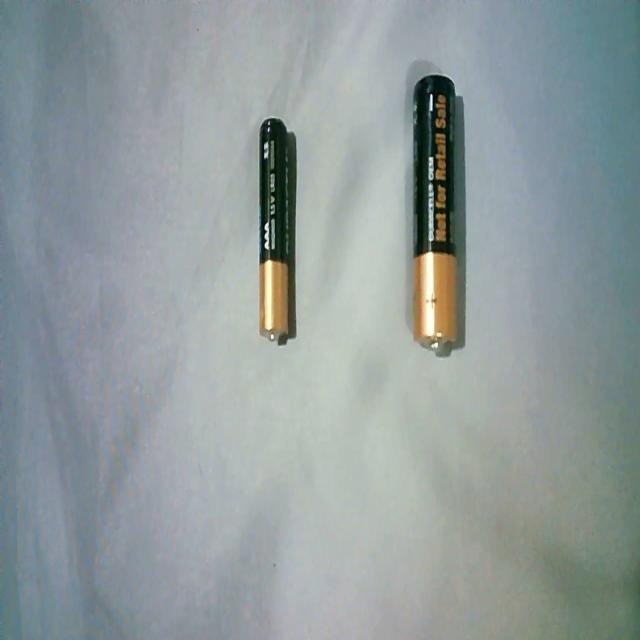AA: (407, 70, 465, 363)
AAA: (254, 111, 299, 350)
